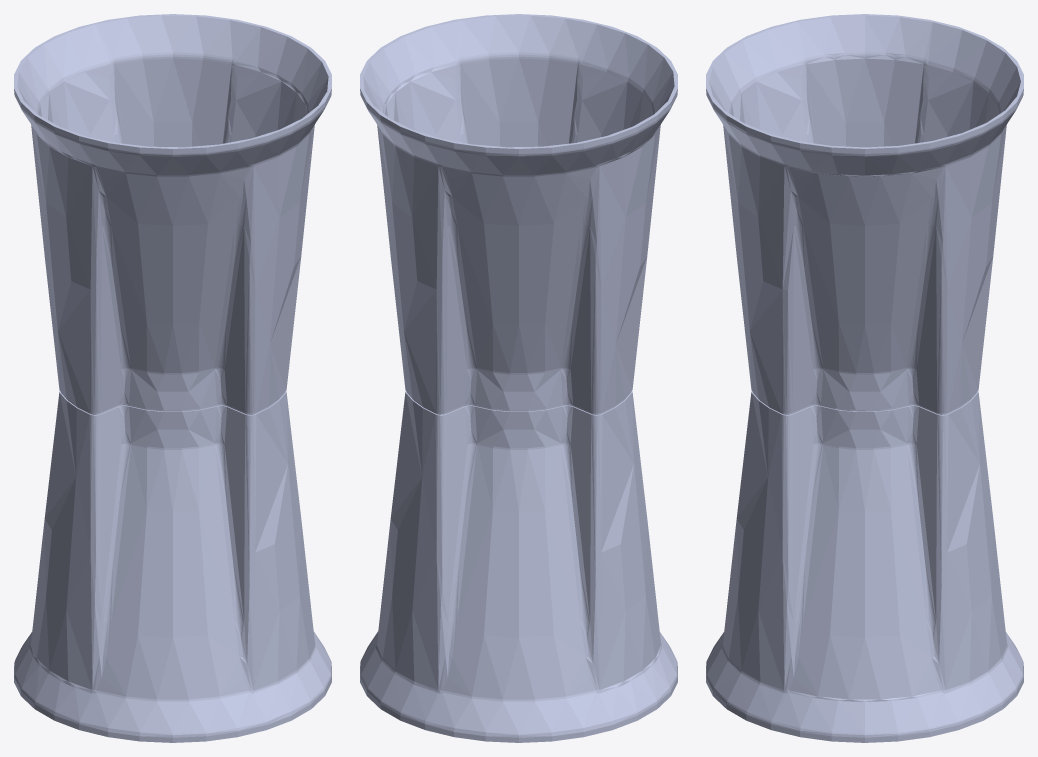
File: cup.glb
3 views of the same model, side by side, from view 1: azimuth 30°, elevation 25°; view 2: azimuth 150°, elevation 25°; view 3: azimuth 270°, elevation 25° (orthographic).
Parts seen in each view (by area): view 1: cup_1, cup_0; view 2: cup_1, cup_0; view 3: cup_1, cup_0.
Part boxes in pixels (x1,y1,x2,y2): cup_1: (14,14,331,413); cup_0: (14,391,331,742); cup_1: (360,14,677,413); cup_0: (360,391,677,742); cup_1: (706,14,1023,413); cup_0: (706,391,1023,742).
Bounding box in the file's own units: 0.0802 × 0.1645 × 0.0798.
